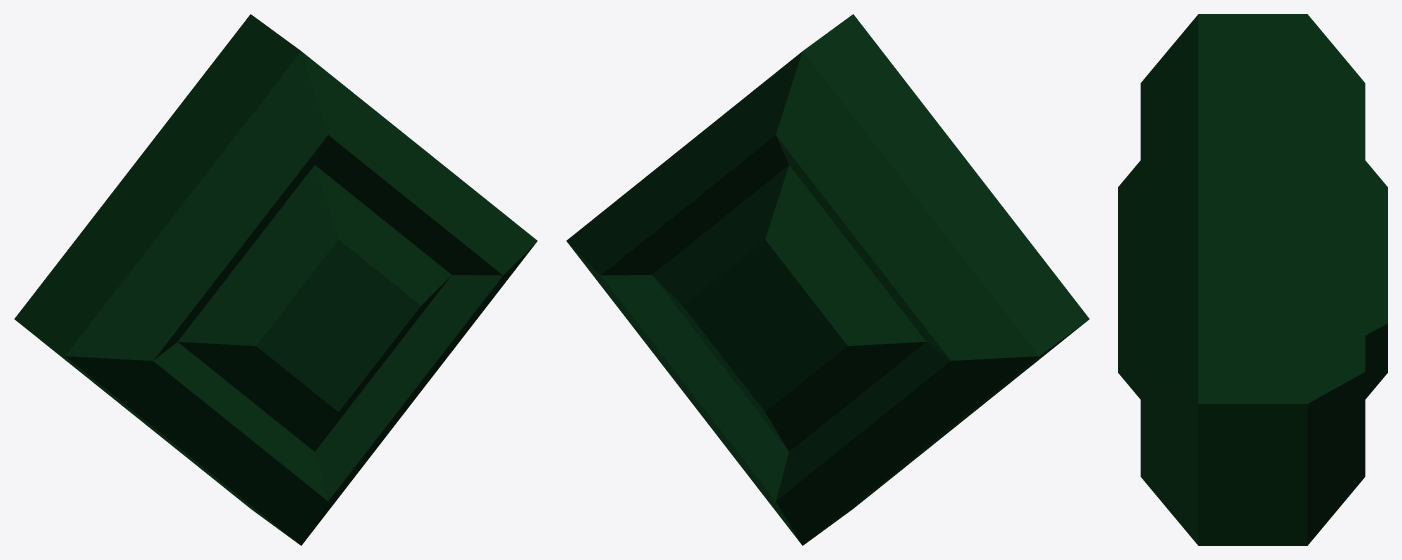
The picture shows the model from 3 angles, left to right: view 1: azimuth 30°, elevation 25°; view 2: azimuth 150°, elevation 25°; view 3: azimuth 270°, elevation 25°; orthographic projection. The views are drawn at different scales.
Parts seen in each view (by area): view 1: pCube1; view 2: pCube1; view 3: pCube1.
Part boxes in pixels (x1=…): pCube1: x1=14, y1=14, x2=537, y2=545; pCube1: x1=566, y1=14, x2=1089, y2=545; pCube1: x1=1118, y1=14, x2=1387, y2=545.
Size of the model in its own units: 2.58 by 2.58 by 1.19.
